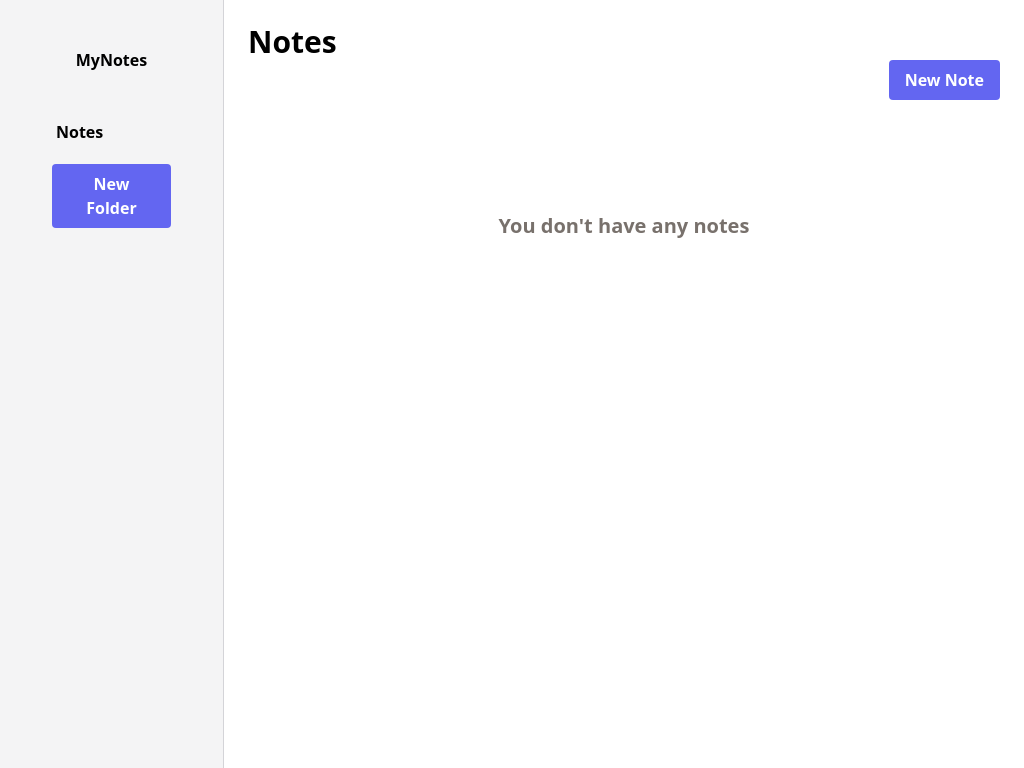
Test: should open the new folder modal, when the new folder button is clicked
Step 1. Click the button "New Folder" → [112, 196], box [52,164,171,228]
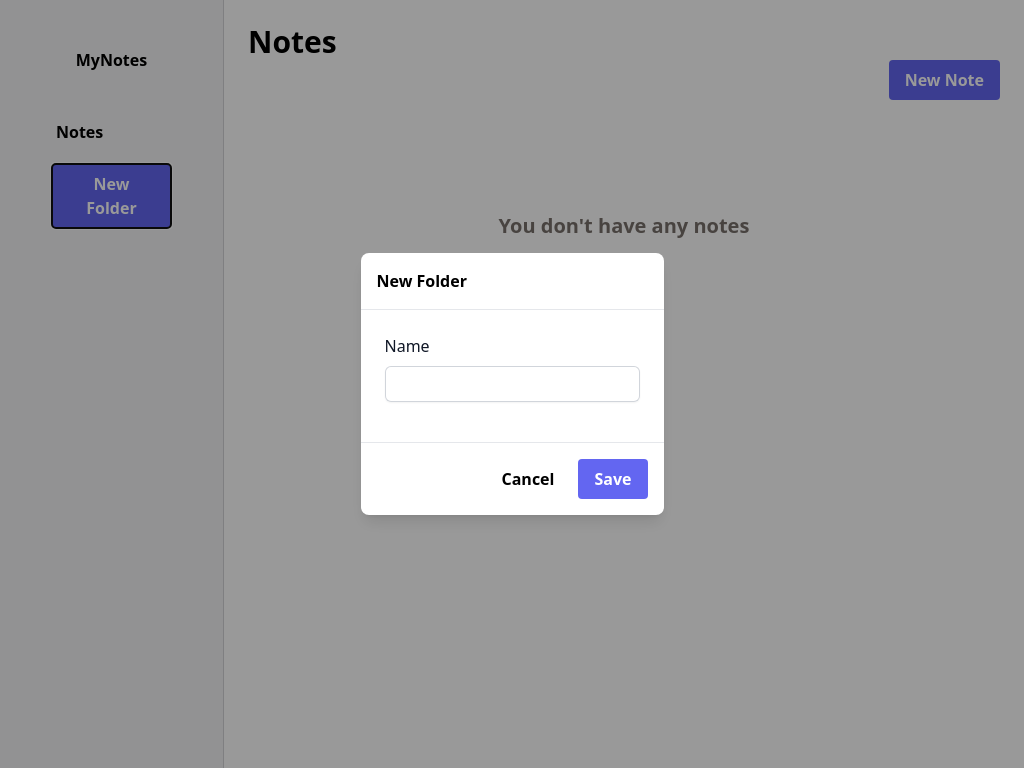
Expected: the heading "New Folder" is shown, [376,270,467,292]
Expected: the field labelled "Name" is shown, [384,366,640,402]
Expected: the button "Save" is enabled, [578,459,648,499]
